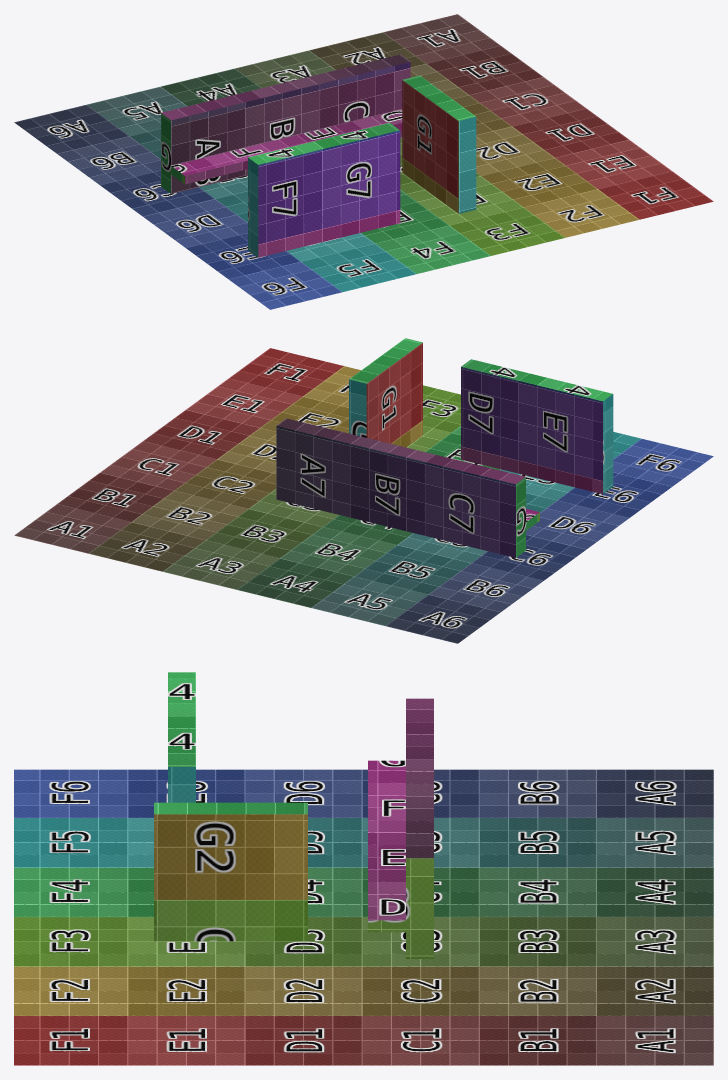
Rendered from streets2.glb.
3 views of the same model, one above another, from view 1: azimuth 30°, elevation 25°; view 2: azimuth 150°, elevation 25°; view 3: azimuth 270°, elevation 25° (orthographic). The views are drawn at different scales.
Visible parts, largest first — view 1: Grid; view 2: Grid; view 3: Grid.
Part boxes in pixels (x1,y1,x2,y2): Grid: [14, 14, 713, 309]; Grid: [14, 338, 713, 643]; Grid: [14, 672, 713, 1065].
Bounding box in the file's own units: 30.48 × 6.1 × 30.48.
Materials: 1 (1 with a texture image).
